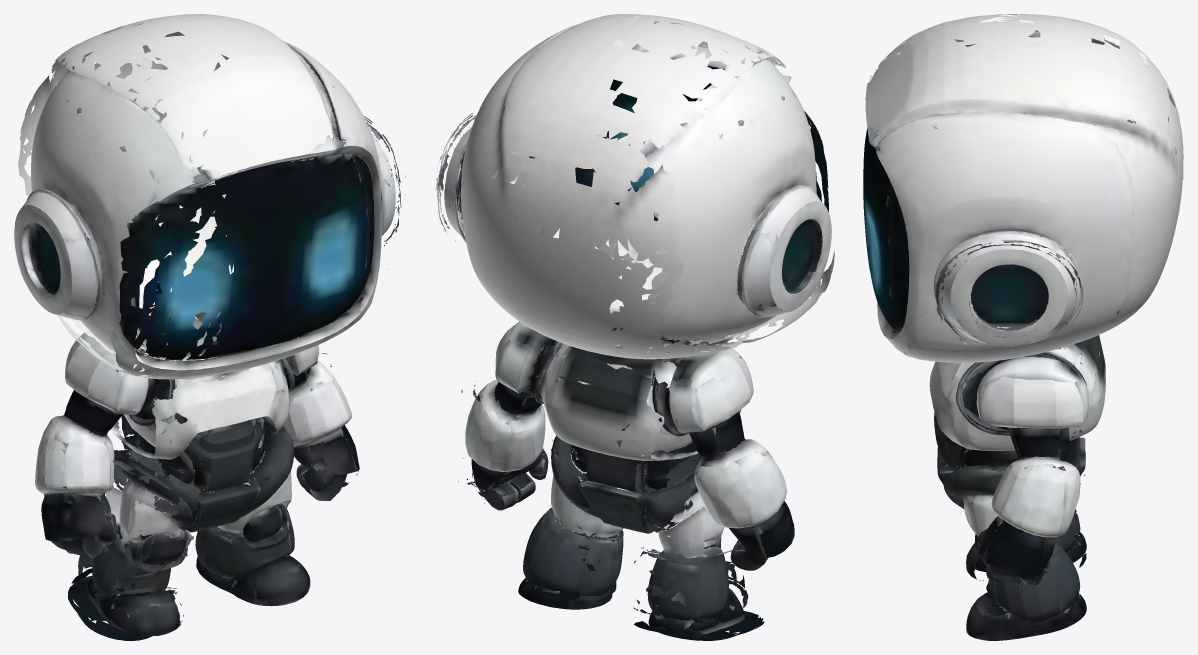
The model's file is sprite_b.glb.
3 renders of one model, left to right at view 1: azimuth 30°, elevation 25°; view 2: azimuth 150°, elevation 25°; view 3: azimuth 270°, elevation 25°, orthographic. The views are drawn at different scales.
Visible parts, largest first — view 1: Object_2, Object_3; view 2: Object_2, Object_3; view 3: Object_2, Object_3.
Boxes of the visible parts, left/top/right/bottom form: Object_2: left=18, top=14, right=395, bottom=640; Object_3: left=14, top=23, right=405, bottom=636; Object_2: left=444, top=14, right=834, bottom=640; Object_3: left=435, top=16, right=831, bottom=634; Object_2: left=863, top=14, right=1183, bottom=640; Object_3: left=864, top=30, right=1183, bottom=614.
Size of the model in its own units: 39910 by 62188 by 32234.
1 material, 1 textured.
